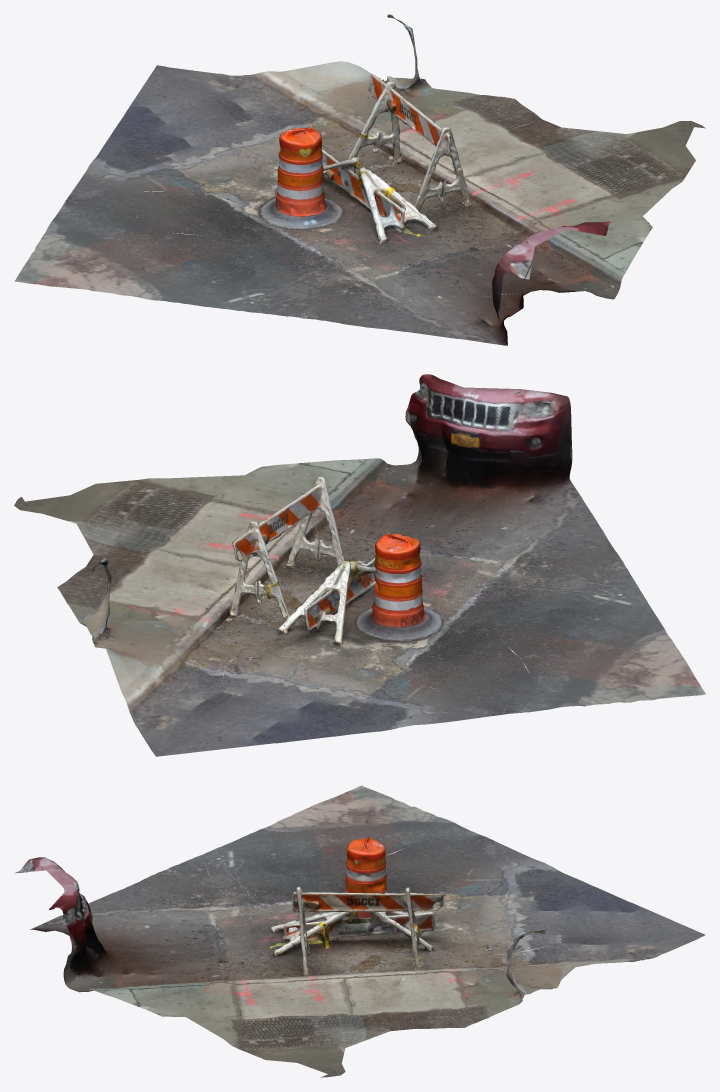
3 renders of one model, top to bottom at view 1: azimuth 30°, elevation 25°; view 2: azimuth 150°, elevation 25°; view 3: azimuth 270°, elevation 25°, orthographic. The views are drawn at different scales.
Visible parts, largest first — view 1: Mesh_0; view 2: Mesh_0; view 3: Mesh_0.
Boxes of the visible parts, left/top/right/bottom form: Mesh_0: left=14, top=14, right=705, bottom=345; Mesh_0: left=14, top=374, right=705, bottom=756; Mesh_0: left=14, top=785, right=705, bottom=1077.
Bounding box in the file's own units: 4.11 × 0.5368 × 4.03.
Materials: 1 (1 with a texture image).
